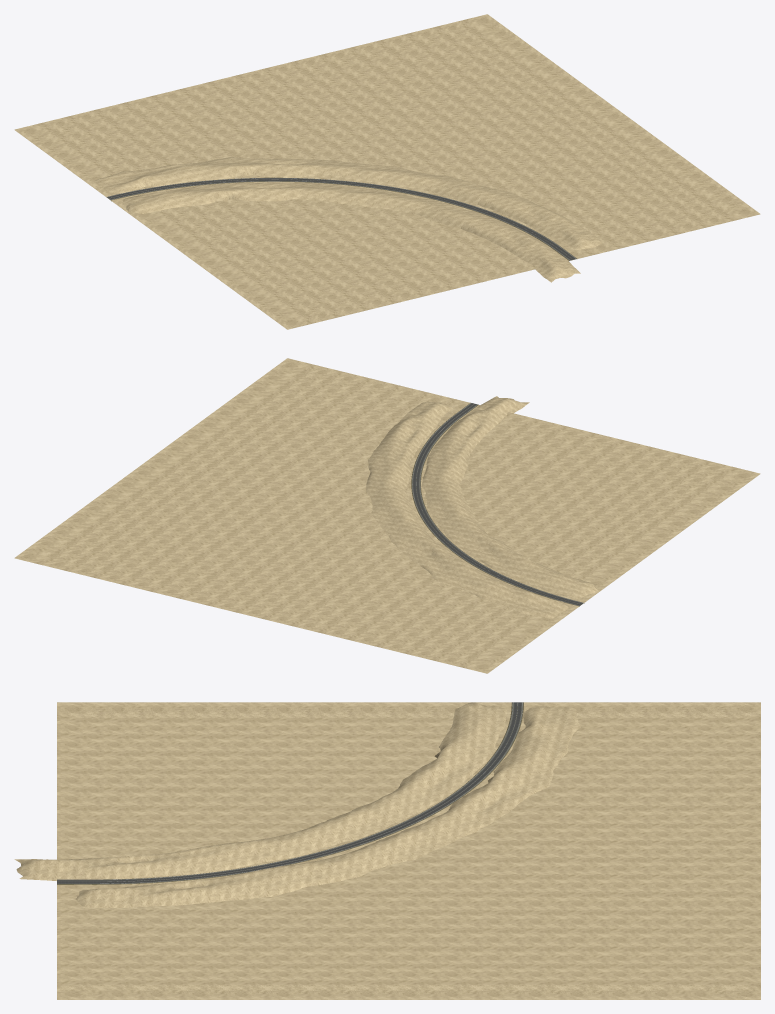
The model's file is block_highway_turn_in.fbx.
The picture shows the model from 3 angles, top to bottom: view 1: azimuth 30°, elevation 25°; view 2: azimuth 150°, elevation 25°; view 3: azimuth 270°, elevation 25°; orthographic projection. The views are drawn at different scales.
Visible parts, largest first — view 1: block_highway_turn_in; view 2: block_highway_turn_in; view 3: block_highway_turn_in.
Boxes of the visible parts, bbox=[...] form: block_highway_turn_in: bbox=[14, 14, 760, 329]; block_highway_turn_in: bbox=[14, 358, 760, 673]; block_highway_turn_in: bbox=[14, 702, 760, 999].
Size of the model in its own units: 2500 by 45.85 by 2653.
